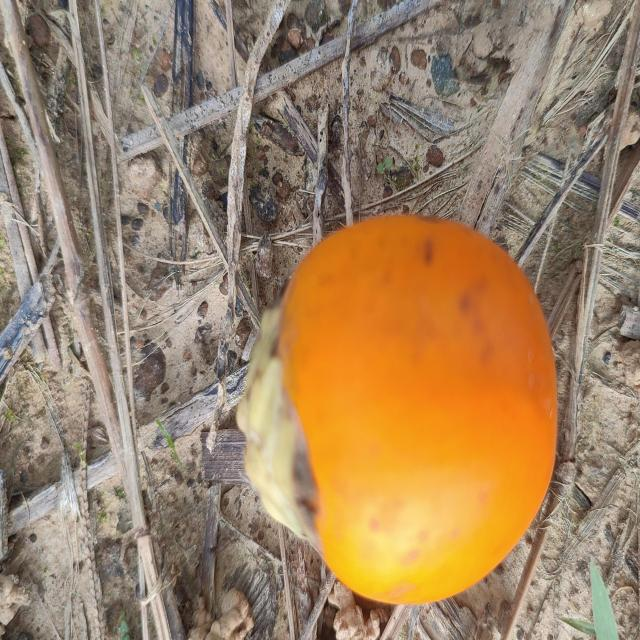good: (236, 214, 560, 608)
